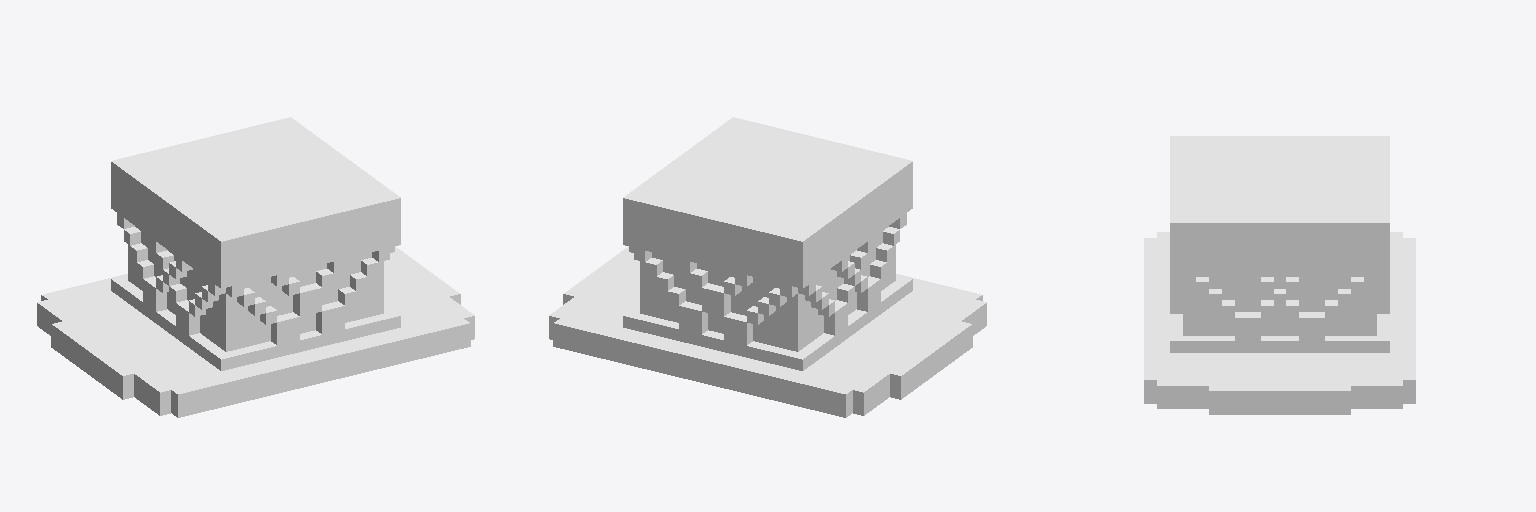
The model's file is game-4.obj.
The picture shows the model from 3 angles: view 1: azimuth 30°, elevation 25°; view 2: azimuth 150°, elevation 25°; view 3: azimuth 270°, elevation 25°; orthographic projection.
Parts seen in each view (by area): view 1: object 1; view 2: object 1; view 3: object 1.
Part boxes in pixels (x1,y1,x2,y2): object 1: (37, 117, 474, 417); object 1: (549, 117, 986, 417); object 1: (1144, 136, 1415, 414).
Size of the model in its own units: 3 by 1.3 by 2.1.